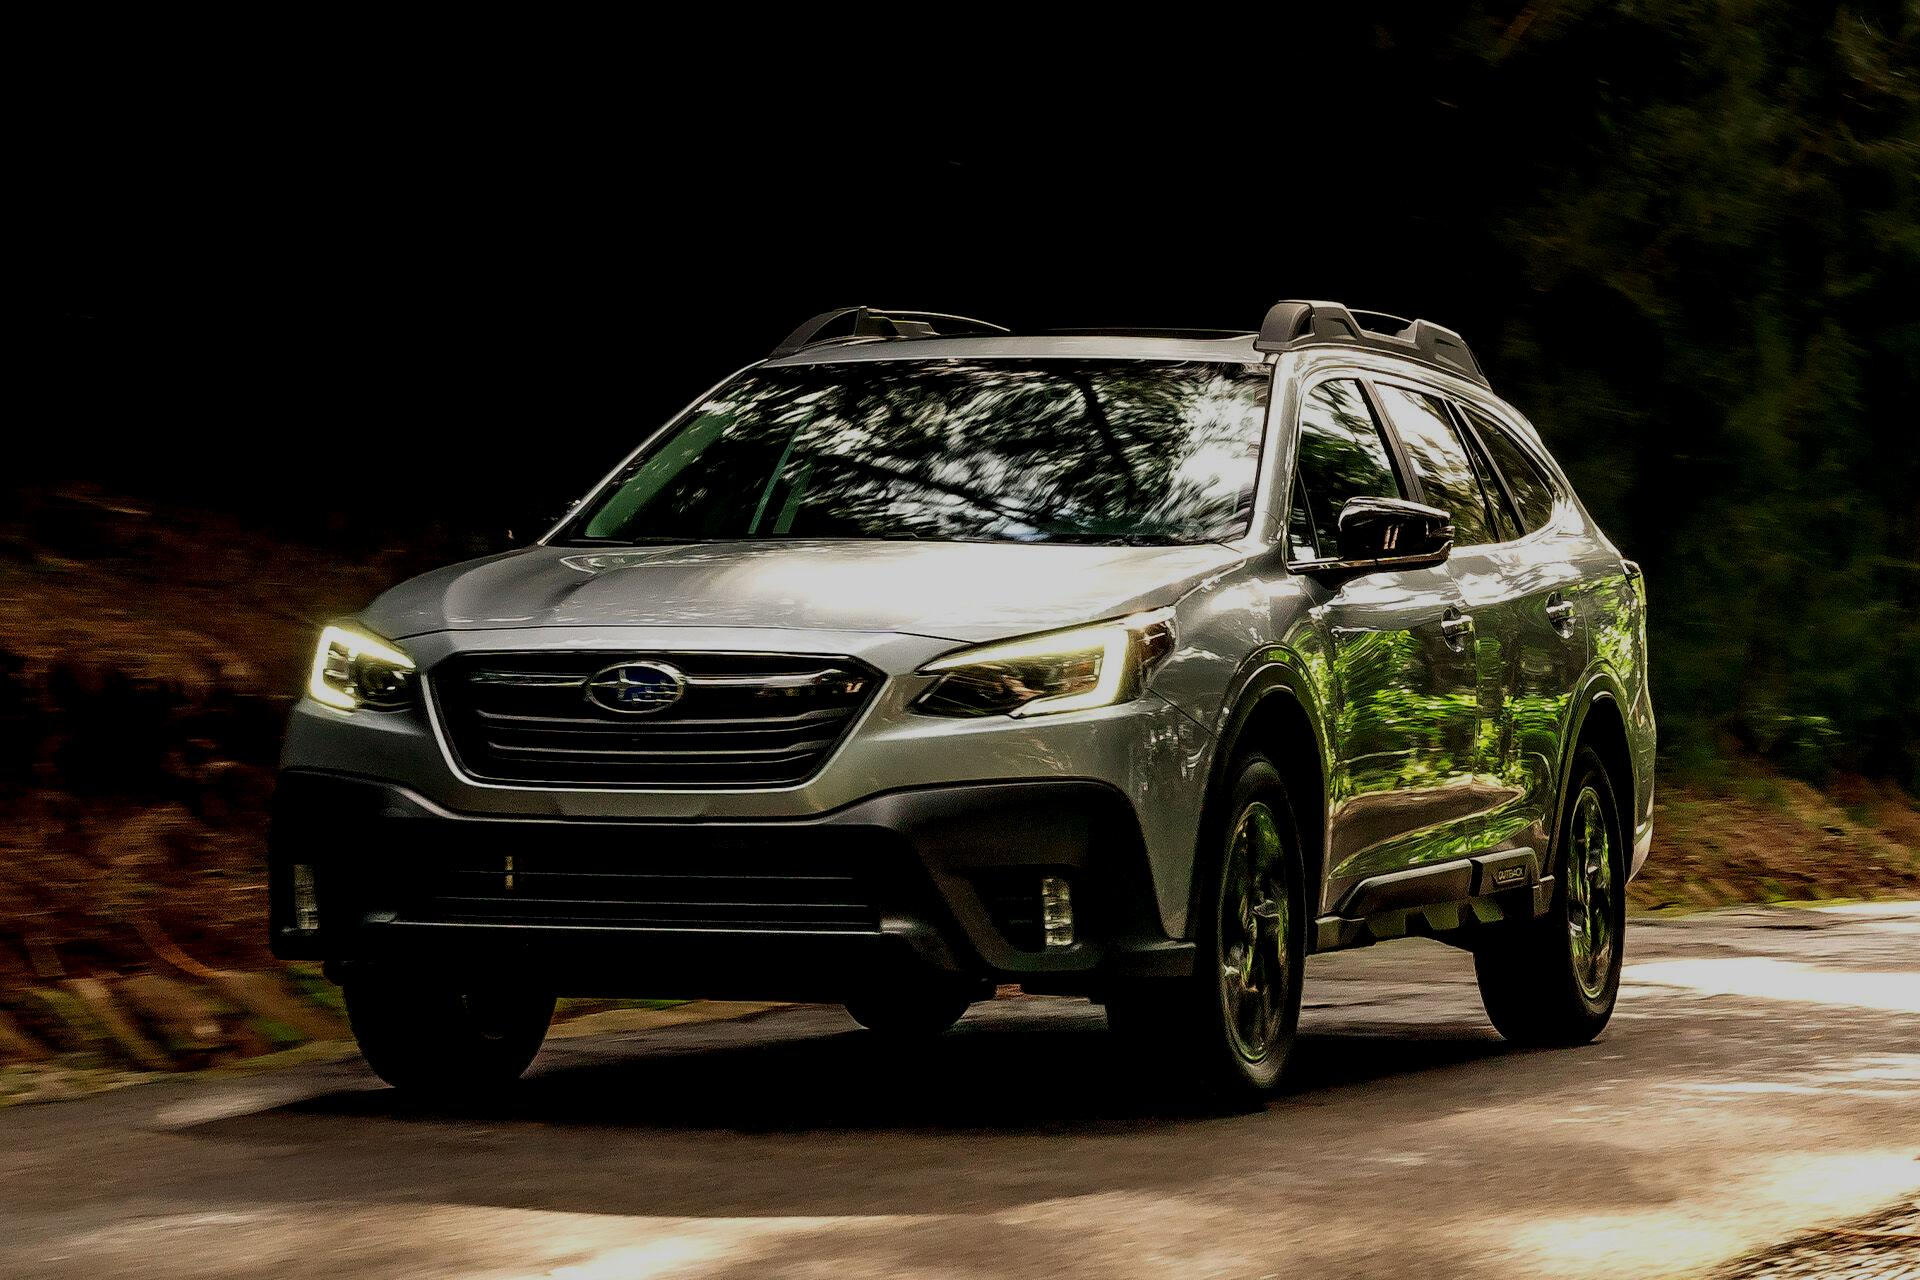subaru: (563, 649, 721, 746)
